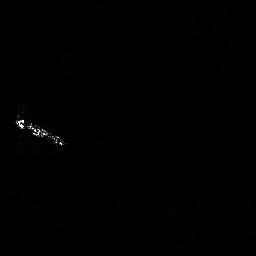ship: (15, 115, 66, 147)
